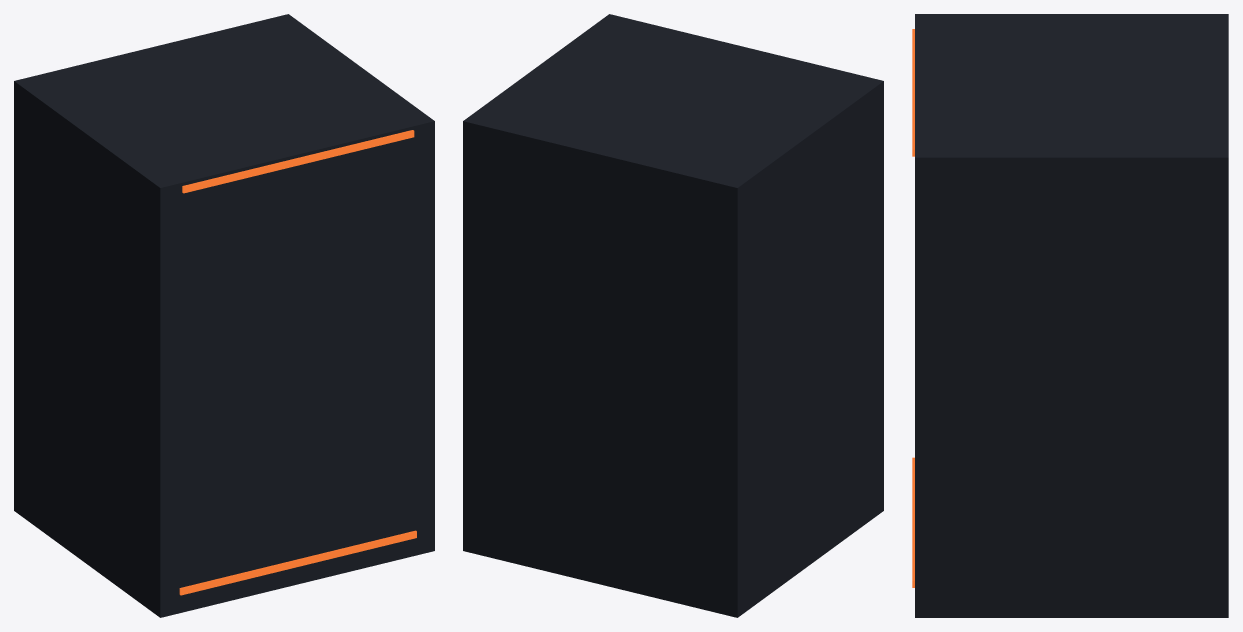
File: rack.glb
3 views of the same model, side by side, from view 1: azimuth 30°, elevation 25°; view 2: azimuth 150°, elevation 25°; view 3: azimuth 270°, elevation 25° (orthographic). The views are drawn at different scales.
Visible parts, largest first — view 1: body, status (×2), top, base; view 2: body, top, base; view 3: body, top.
Part boxes in pixels (left/top/right/bottom): body: left=14, top=14, right=434, bottom=617; status (×2): left=179, top=130, right=416, bottom=595; top: left=16, top=85, right=430, bottom=197; base: left=16, top=487, right=429, bottom=597; body: left=463, top=14, right=883, bottom=617; top: left=467, top=124, right=803, bottom=197; base: left=467, top=527, right=780, bottom=597; body: left=915, top=14, right=1228, bottom=617; top: left=920, top=160, right=1223, bottom=169.
Bounding box in the file's own units: 2.62 × 3.94 × 2.44.
